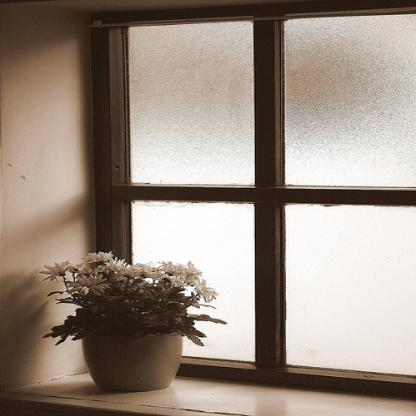pottedplant: (36, 250, 230, 392)
